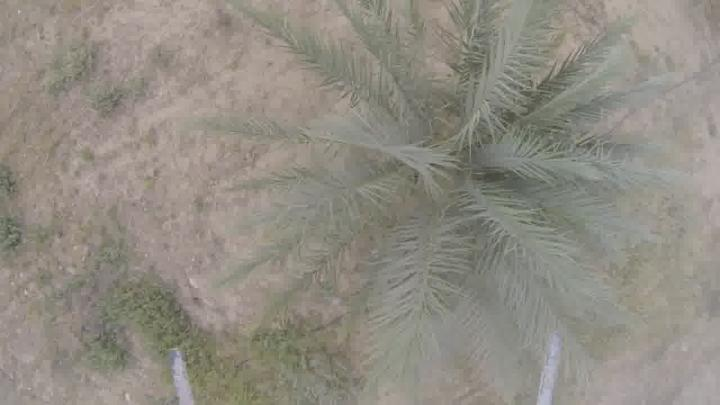Date-Palm-Crown: (368, 71, 596, 325)
